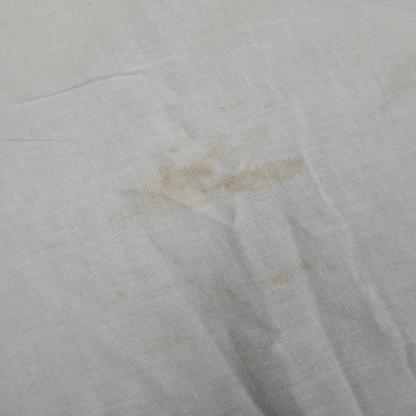spot: (100, 138, 343, 234), (250, 262, 331, 286), (211, 104, 298, 112), (154, 276, 212, 288), (376, 102, 395, 118), (111, 288, 136, 300)
